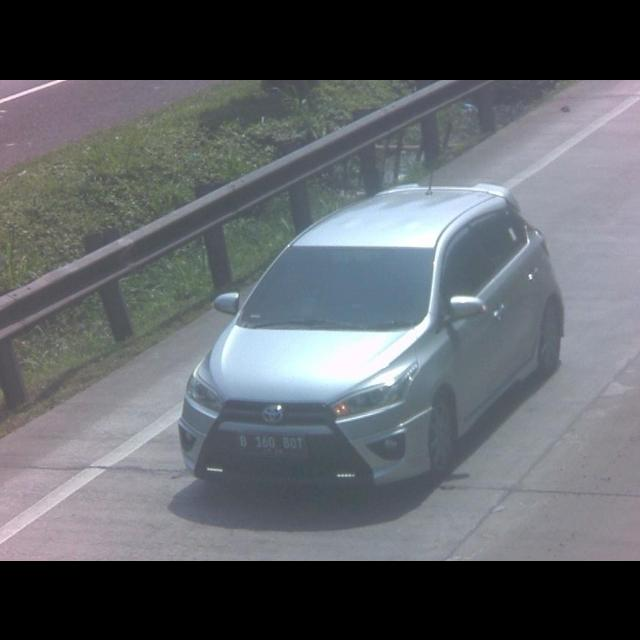plate: (236, 428, 308, 458)
